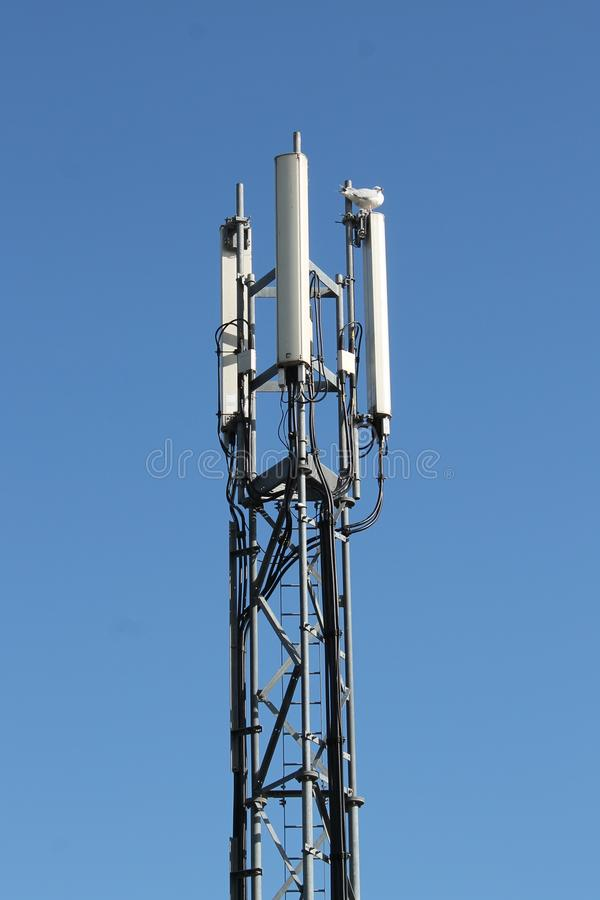sa: (339, 175, 413, 453), (261, 128, 328, 390), (195, 204, 264, 448)
